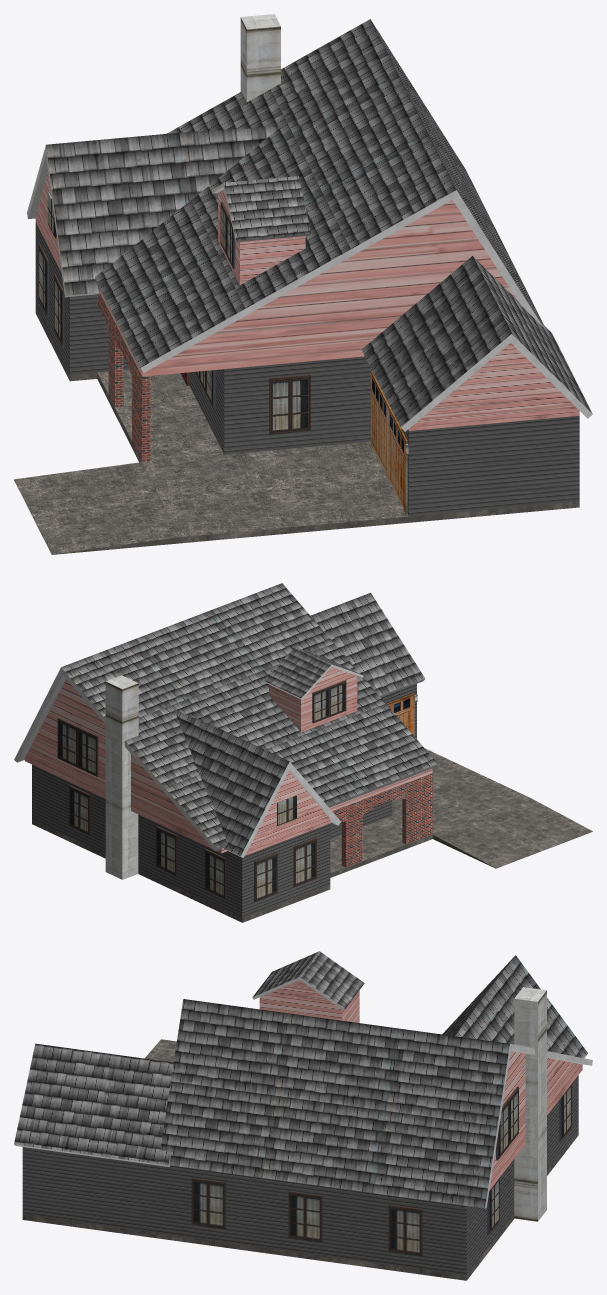
Rendered from house_06__9_.FBX.
3 renders of one model, top to bottom at view 1: azimuth 30°, elevation 25°; view 2: azimuth 150°, elevation 25°; view 3: azimuth 270°, elevation 25°, orthographic. The views are drawn at different scales.
Parts seen in each view (by area): view 1: house_06__9_; view 2: house_06__9_; view 3: house_06__9_.
Boxes of the visible parts, x1,y1,x2,y2 form: house_06__9_: [14, 14, 592, 554]; house_06__9_: [14, 583, 592, 922]; house_06__9_: [14, 951, 592, 1280].
Bounding box in the file's own units: 262 × 109 × 260.
